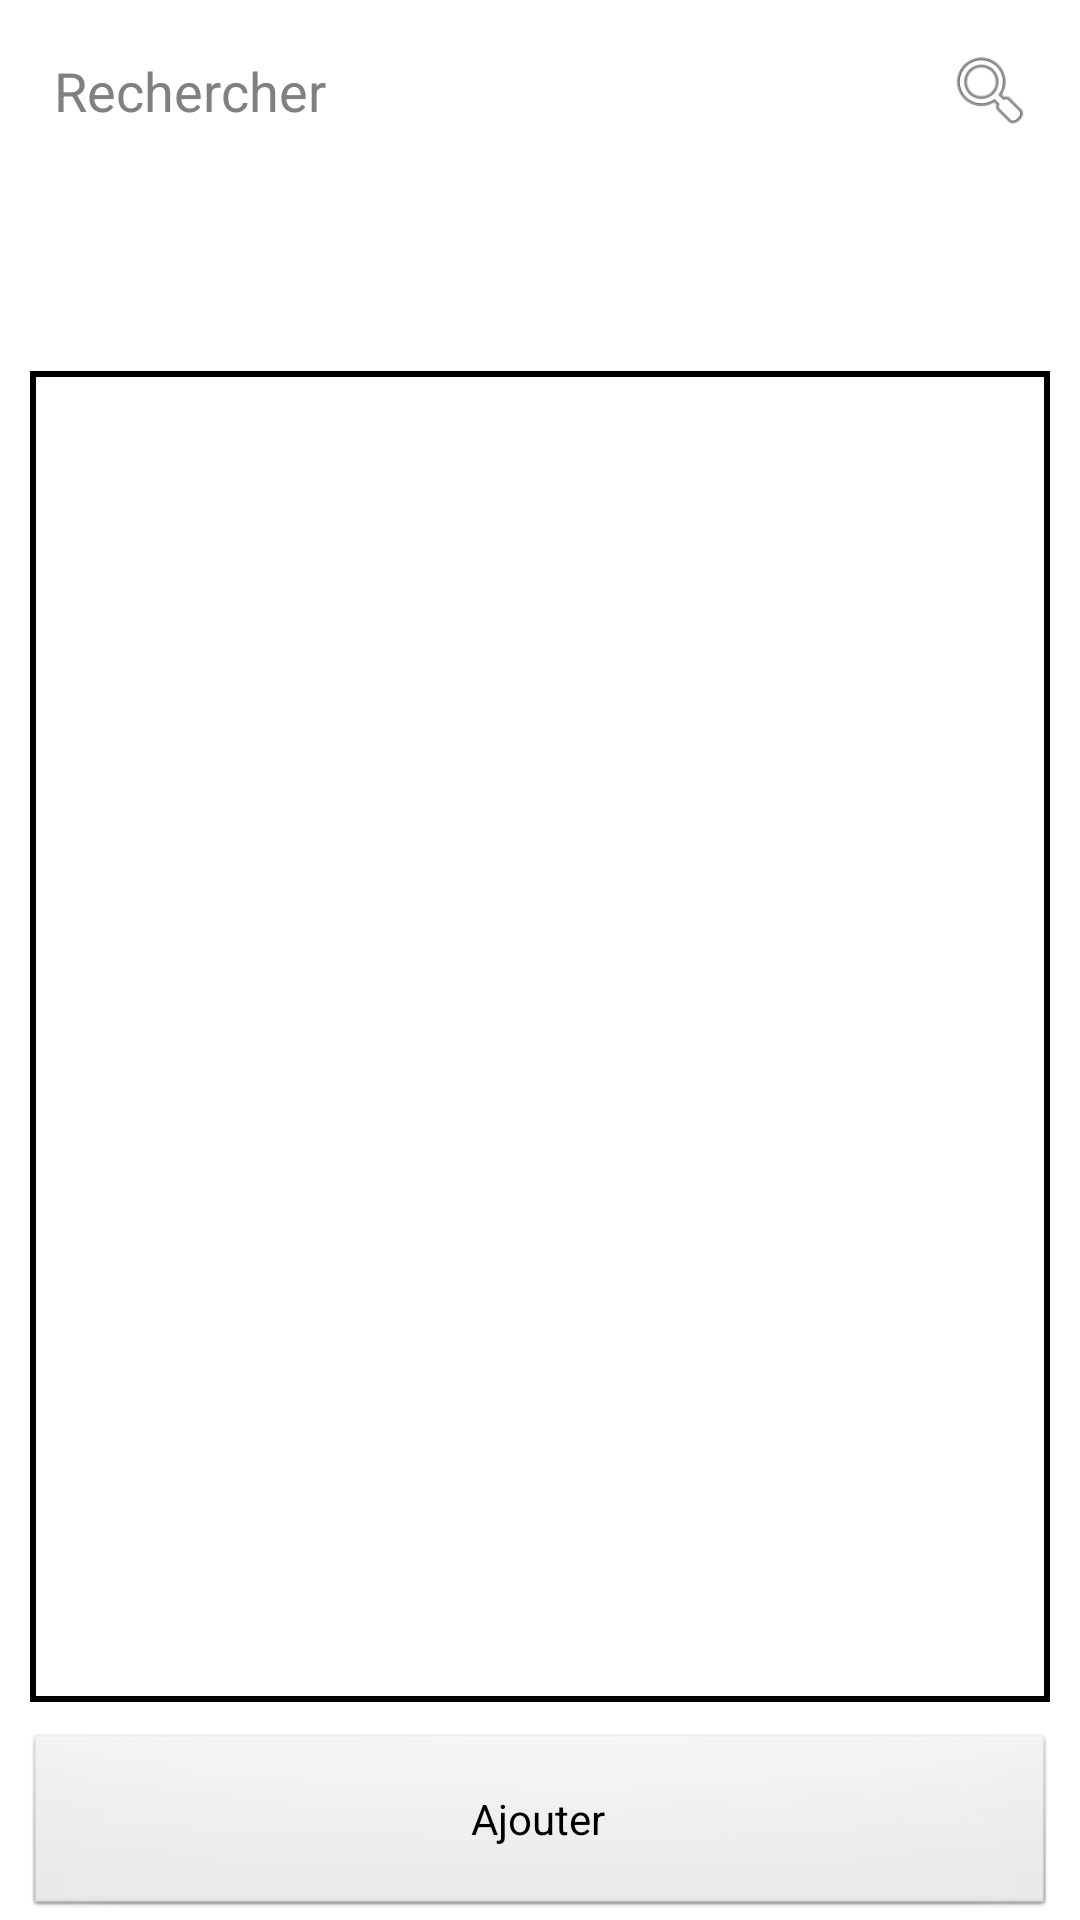

Where icons sit on this 1080*1920 app screen, as (x1, y1, x2, y2):
search: (957, 57, 1023, 124)
